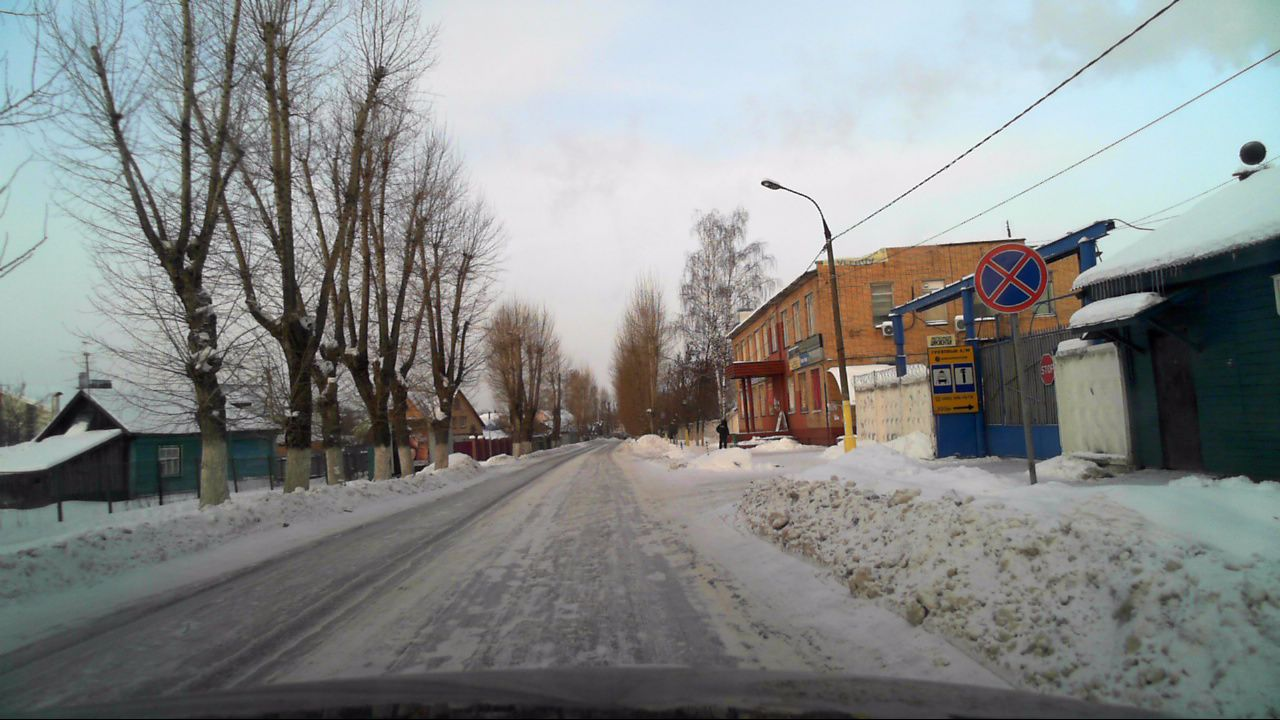No Parking: (974, 246, 1049, 313)
